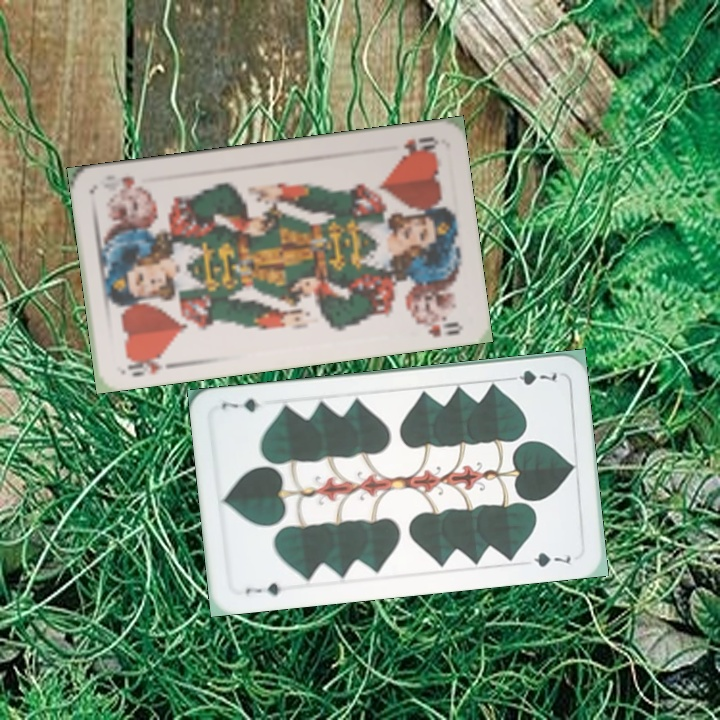G7: (502, 366, 560, 388), (241, 579, 284, 598)
HO: (123, 349, 167, 379), (396, 132, 441, 158)
